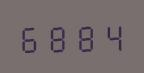eight: (45, 20, 71, 53), (72, 19, 98, 52)
four: (99, 19, 125, 52)
six: (18, 20, 44, 53)
